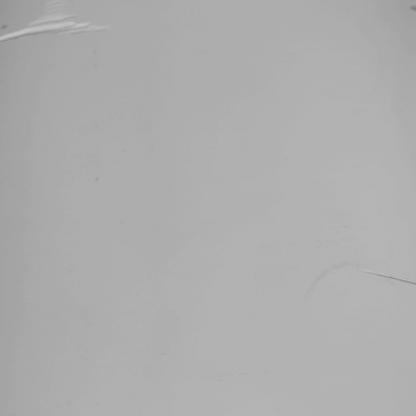sunshang: (1, 15, 107, 41), (360, 267, 416, 292)
